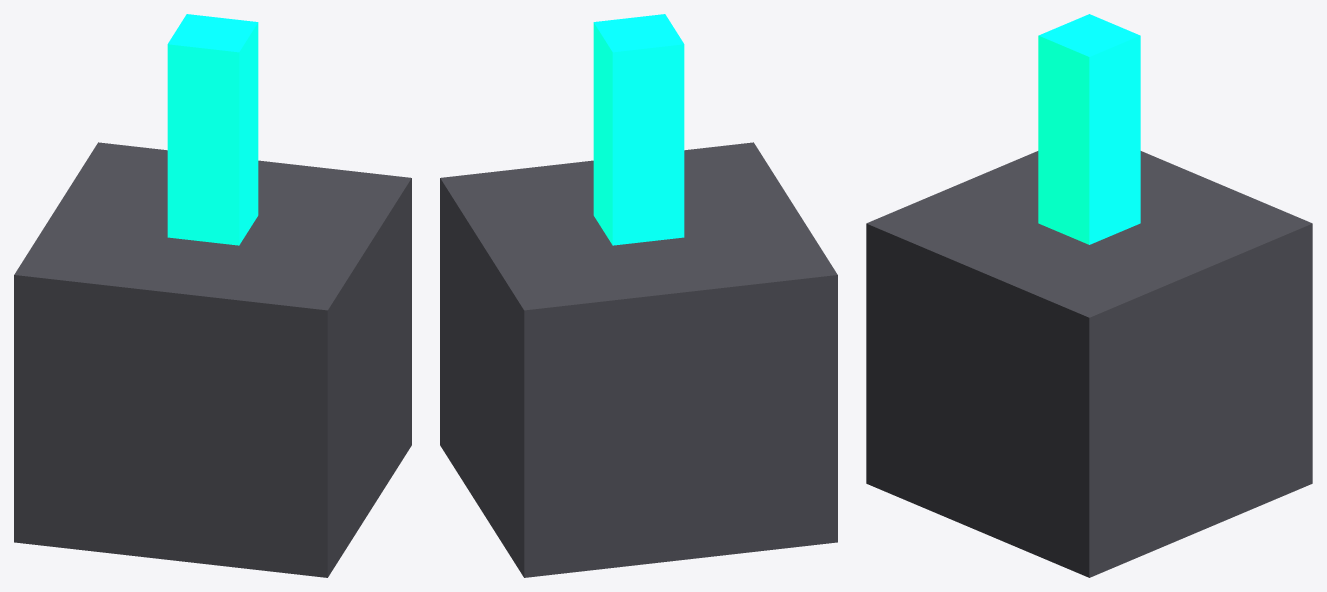
File: tower_laser_lod2.glb
The picture shows the model from 3 angles, left to right: view 1: azimuth 30°, elevation 25°; view 2: azimuth 150°, elevation 25°; view 3: azimuth 270°, elevation 25°; orthographic projection. The views are drawn at different scales.
Parts seen in each view (by area): view 1: tower_laser_lod2; view 2: tower_laser_lod2; view 3: tower_laser_lod2.
Boxes of the visible parts, bbox=[...] form: tower_laser_lod2: bbox=[14, 14, 411, 577]; tower_laser_lod2: bbox=[440, 14, 837, 577]; tower_laser_lod2: bbox=[866, 14, 1312, 577].
Size of the model in its own units: 0.7 by 0.775 by 0.7.
